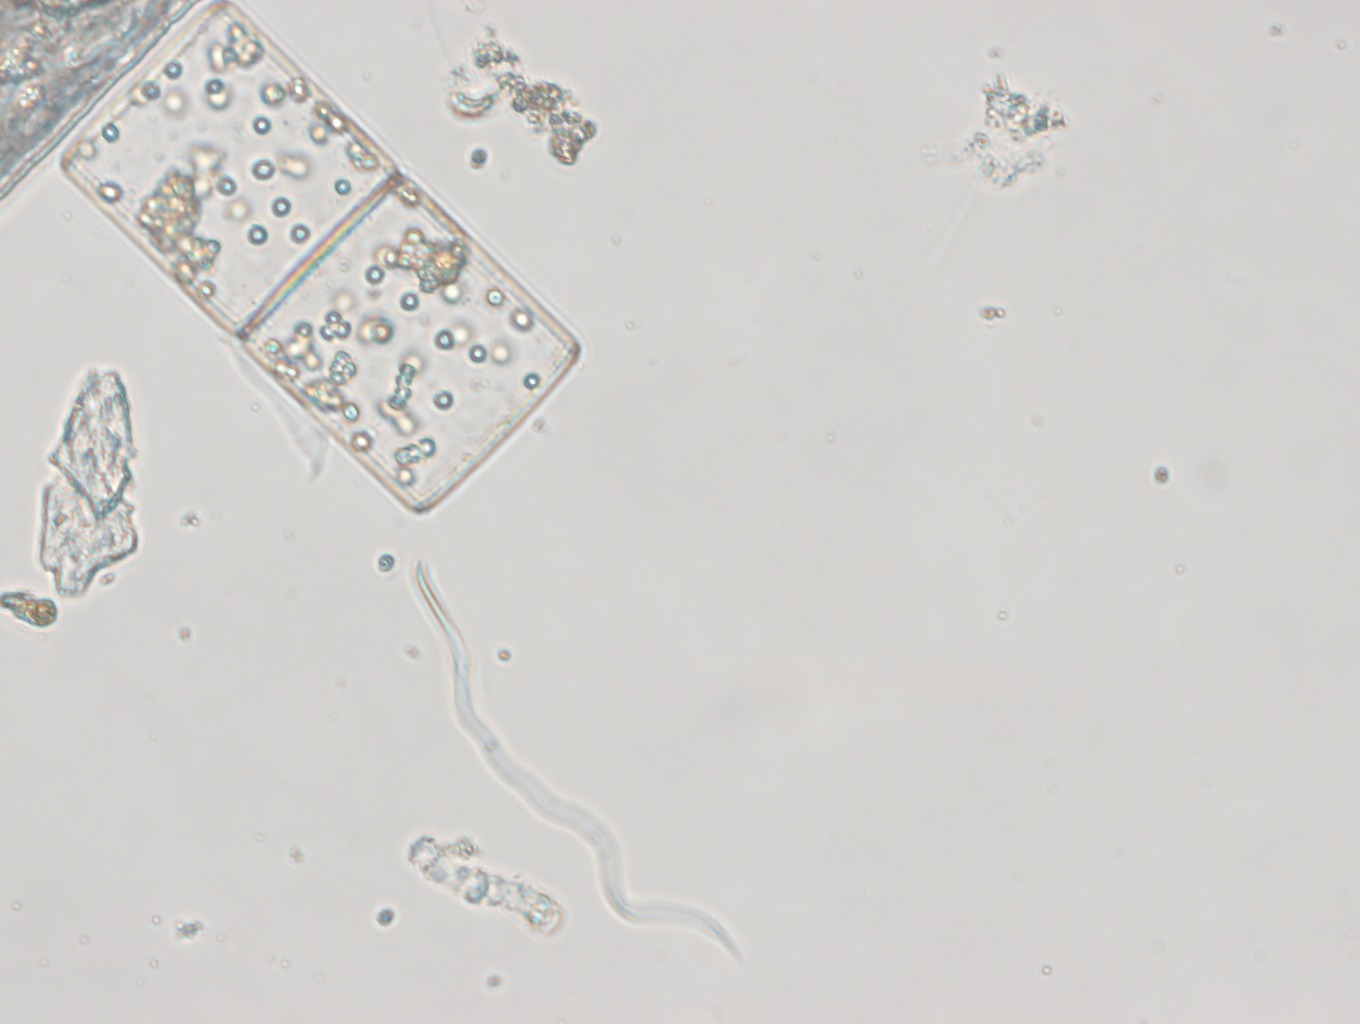guinardia flaccida: (60, 1, 582, 514)
